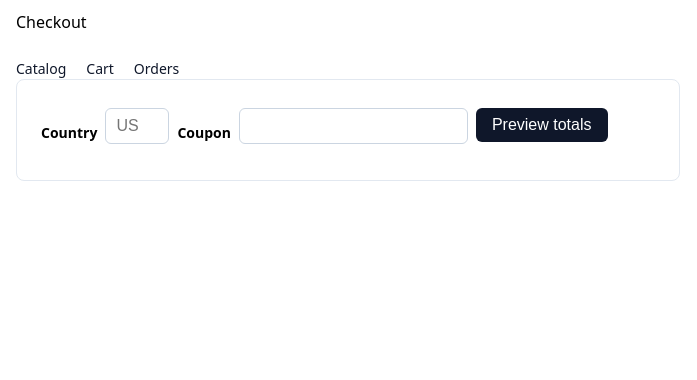
Test case: CheckoutPage › retires the quote when either pricing input changes
In the field labelled "Country": (137, 126) x1=105 y1=108 x2=169 y2=144, type "DE"
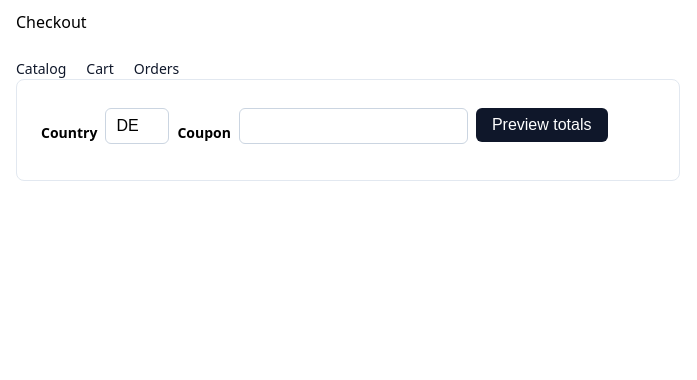
In the field labelled "Coupon": (353, 126) x1=239 y1=108 x2=468 y2=144, type "SAVE10"
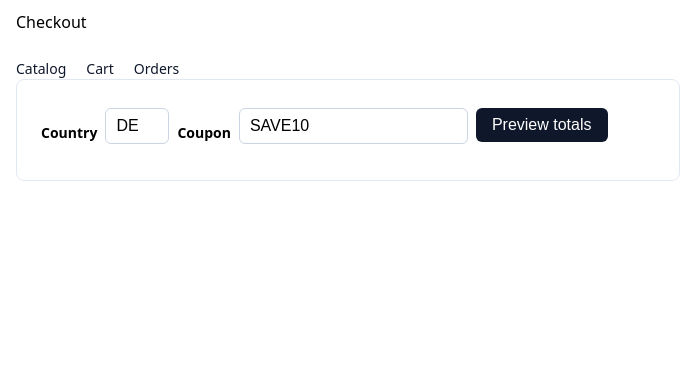
Click the button "Preview totals": (542, 125) x1=476 y1=108 x2=608 y2=142
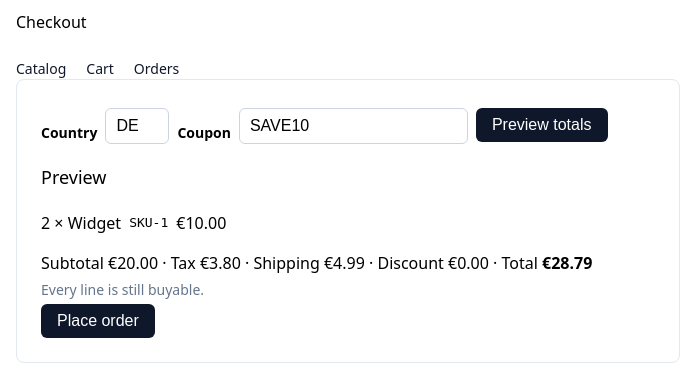
Check: the element with test id "checkout-preview" is shown, box x1=41 y1=164 x2=655 y2=338
Replace the text in the field labelled "Country" with "FR": (137, 126) x1=105 y1=108 x2=169 y2=144
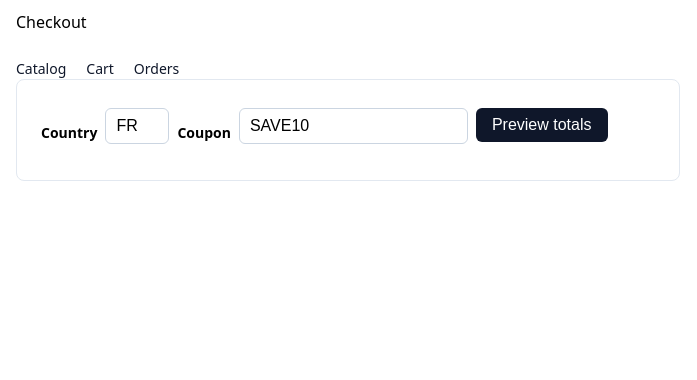
Check: the element with test id "checkout-preview" is gone
Check: the button "Place order" is gone
Click the button "Preview totals": (542, 125) x1=476 y1=108 x2=608 y2=142
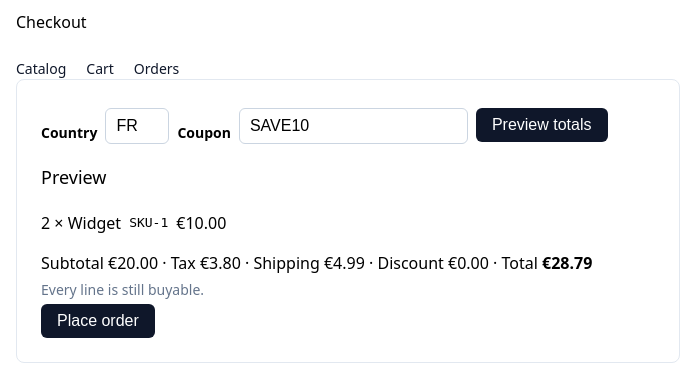
Check: the element with test id "checkout-preview" is shown, box x1=41 y1=164 x2=655 y2=338
Replace the text in the field labelled "Coupon" with "OTHER": (353, 126) x1=239 y1=108 x2=468 y2=144
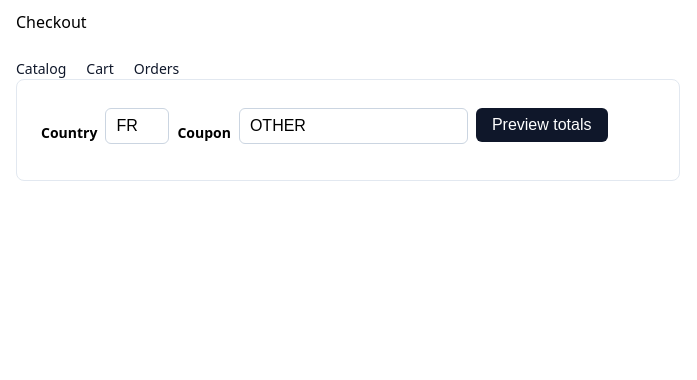
Check: the element with test id "checkout-preview" is gone
